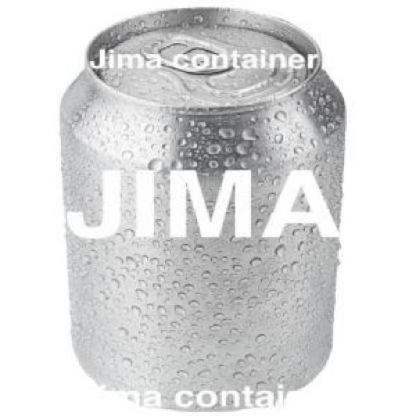Can: (56, 5, 360, 411)
